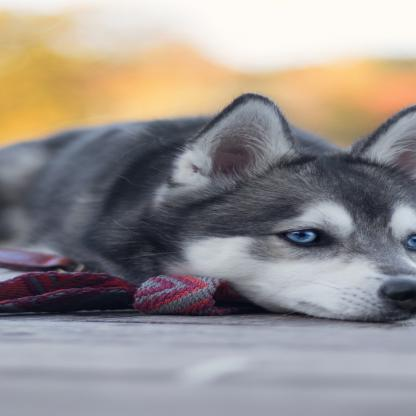dog: (5, 96, 416, 322)
